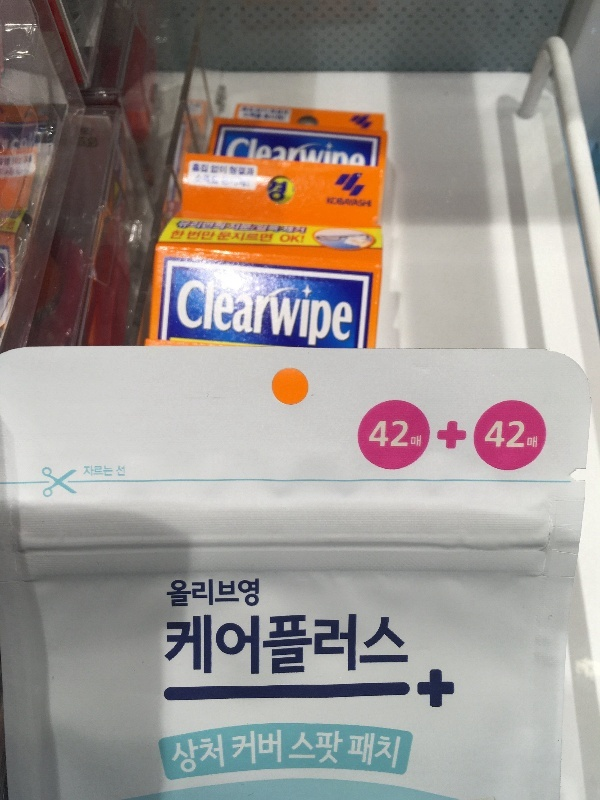text: (193, 273, 208, 351), (209, 273, 224, 351), (225, 273, 240, 351), (241, 273, 256, 351), (257, 273, 272, 351), (273, 273, 288, 351), (289, 273, 304, 351), (305, 273, 320, 351), (321, 273, 336, 351), (337, 273, 352, 351), (177, 610, 192, 680), (193, 610, 208, 680), (209, 610, 224, 680), (225, 610, 240, 680), (241, 610, 256, 680), (257, 610, 272, 680), (273, 610, 288, 680), (289, 610, 304, 680), (305, 610, 320, 680), (321, 610, 336, 680), (337, 610, 352, 680), (353, 610, 368, 680), (369, 610, 384, 680), (385, 610, 400, 680), (179, 273, 192, 351), (241, 132, 256, 185), (257, 132, 272, 185), (273, 132, 288, 185), (289, 132, 304, 185), (305, 132, 320, 185), (321, 132, 336, 185), (337, 132, 352, 185), (353, 132, 368, 185), (209, 732, 225, 779), (226, 132, 240, 185), (177, 732, 192, 779), (193, 732, 208, 779), (166, 610, 176, 680), (1, 139, 16, 183), (17, 139, 32, 183), (417, 669, 432, 712), (433, 669, 448, 712), (401, 610, 410, 680), (305, 732, 320, 772), (321, 732, 336, 772), (337, 732, 352, 772), (353, 732, 368, 772), (369, 732, 384, 772), (385, 732, 400, 772), (241, 728, 256, 767), (257, 728, 272, 767), (290, 732, 304, 772), (177, 576, 192, 612), (193, 576, 208, 612), (209, 576, 224, 612), (225, 576, 240, 612), (241, 576, 256, 612), (449, 418, 464, 453), (497, 419, 512, 453), (513, 419, 528, 453), (33, 139, 44, 183), (385, 419, 400, 451), (401, 419, 416, 451), (193, 217, 208, 247), (209, 217, 224, 247), (225, 217, 240, 247), (241, 217, 256, 247), (257, 217, 272, 247), (273, 217, 288, 247), (289, 217, 304, 247), (370, 419, 384, 451), (178, 217, 192, 247), (230, 728, 240, 767), (273, 728, 283, 767), (485, 419, 496, 453), (438, 418, 448, 453), (529, 419, 539, 453), (167, 576, 176, 612), (449, 669, 456, 712), (193, 161, 208, 180), (209, 161, 224, 180), (225, 161, 240, 180), (241, 161, 256, 180), (171, 732, 176, 779), (353, 273, 356, 351), (337, 196, 352, 211), (353, 196, 368, 211), (417, 419, 423, 451), (97, 465, 112, 477), (83, 465, 96, 477), (113, 465, 126, 477), (257, 576, 261, 612), (305, 217, 309, 247), (465, 418, 468, 453), (329, 196, 336, 211), (369, 196, 373, 211), (369, 132, 370, 185), (401, 732, 402, 772)
